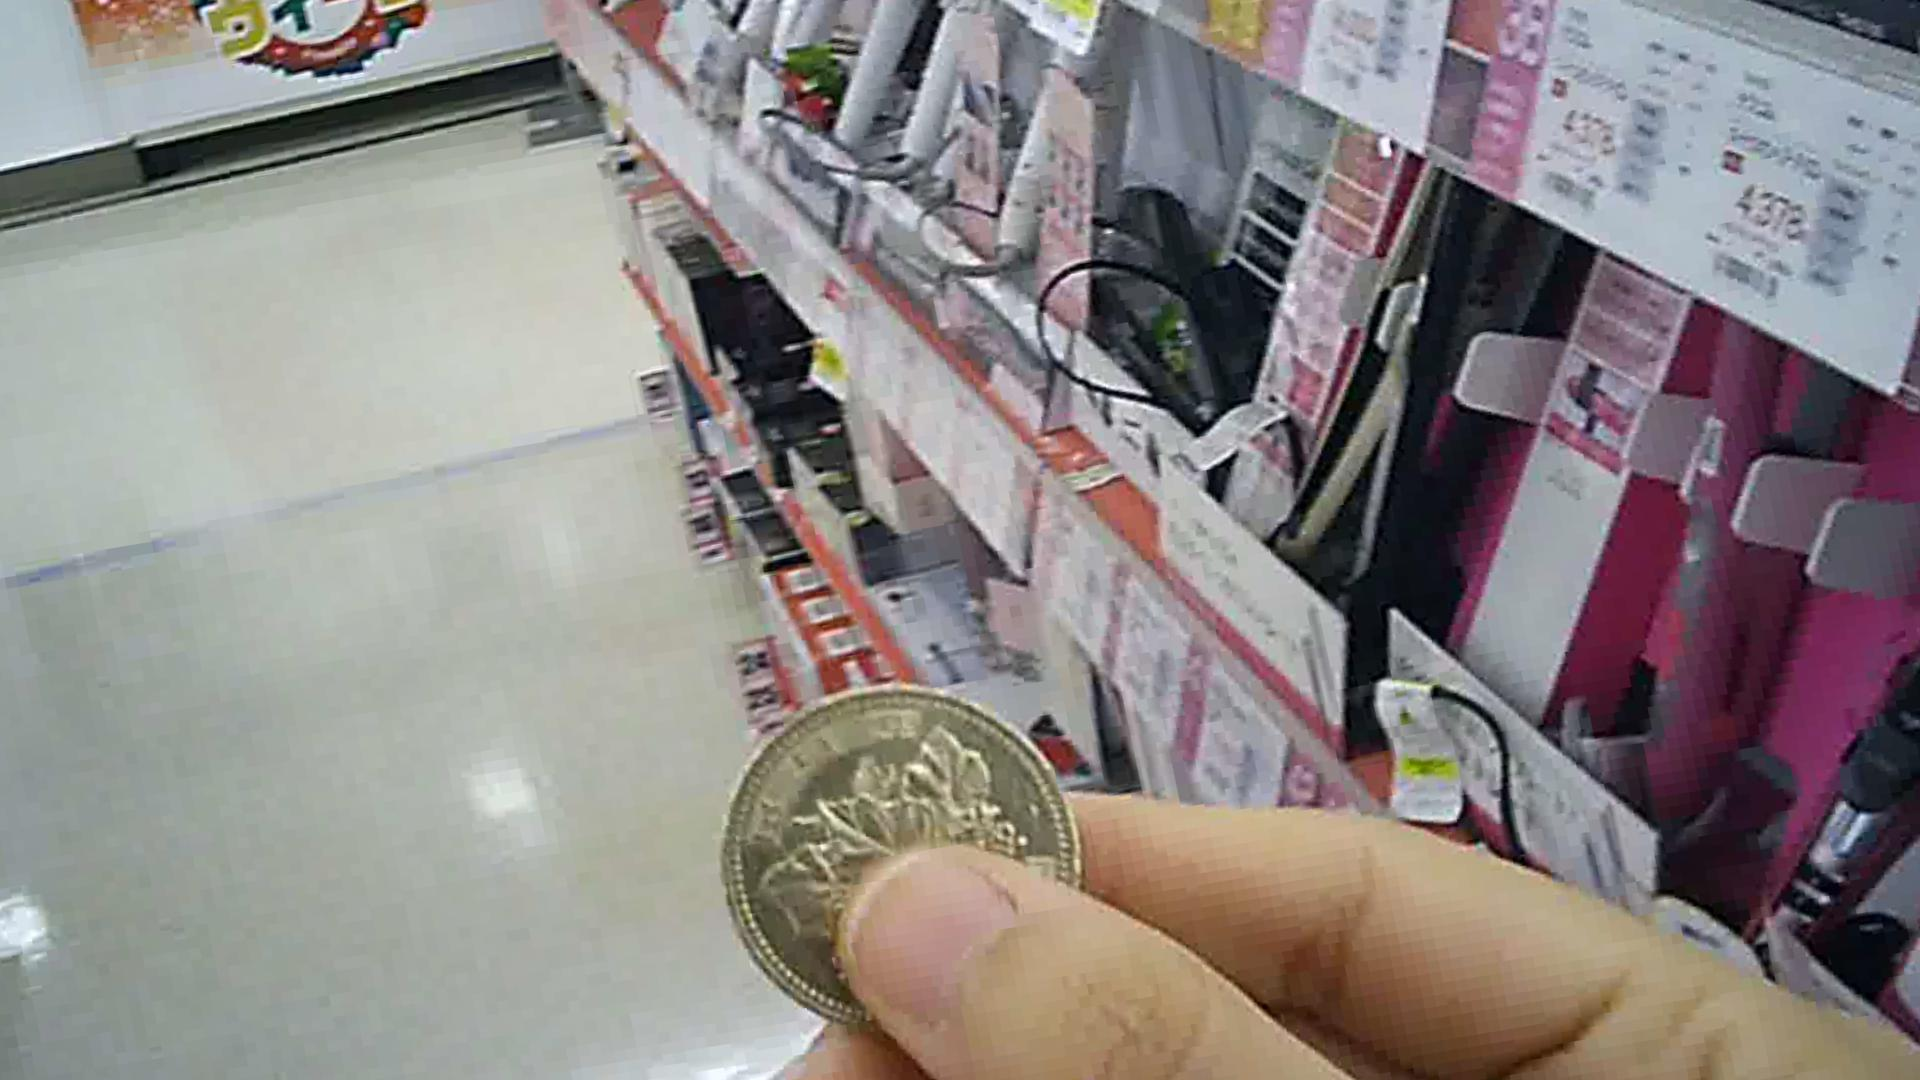500 Yen: (717, 670, 1105, 1002)
